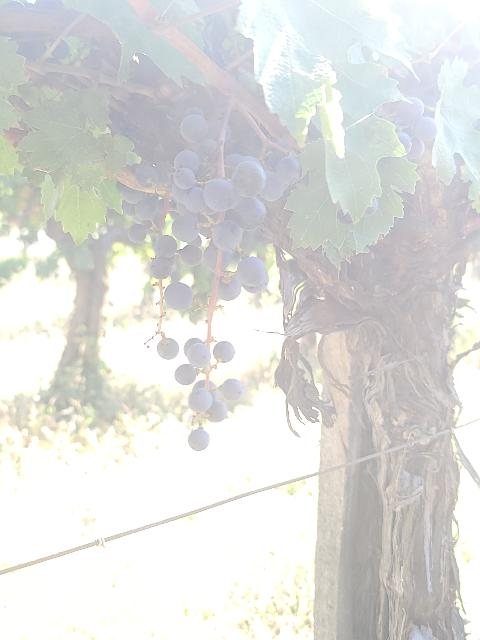grapes: (119, 101, 300, 422), (150, 114, 300, 330)
